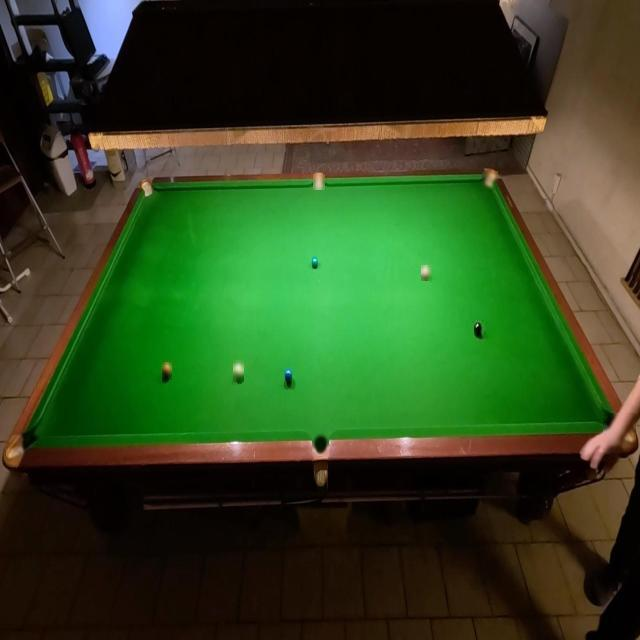Ball: (233, 360, 244, 382), (283, 367, 294, 387), (162, 362, 172, 380), (474, 320, 484, 338), (422, 266, 432, 282), (310, 256, 319, 270)
Pocket: (6, 427, 39, 467), (603, 414, 636, 452), (312, 434, 329, 456), (482, 171, 498, 190), (141, 180, 155, 199), (313, 174, 325, 190)
